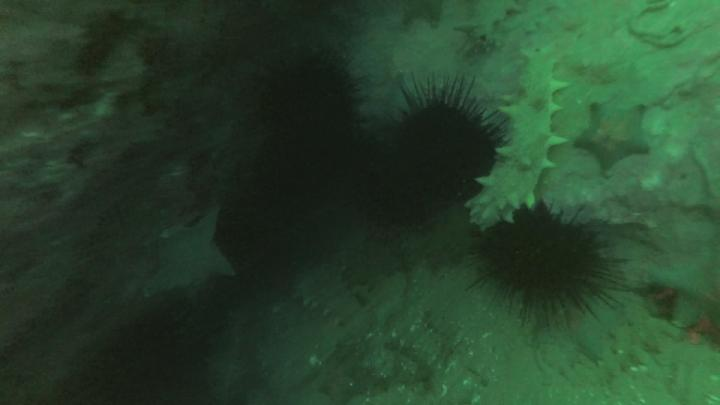echinus: (484, 210, 600, 307), (397, 102, 496, 202)
holothurian: (470, 45, 567, 233), (295, 271, 362, 325), (457, 2, 513, 52)
starfish: (149, 210, 236, 301), (649, 251, 720, 331), (575, 105, 653, 168)
